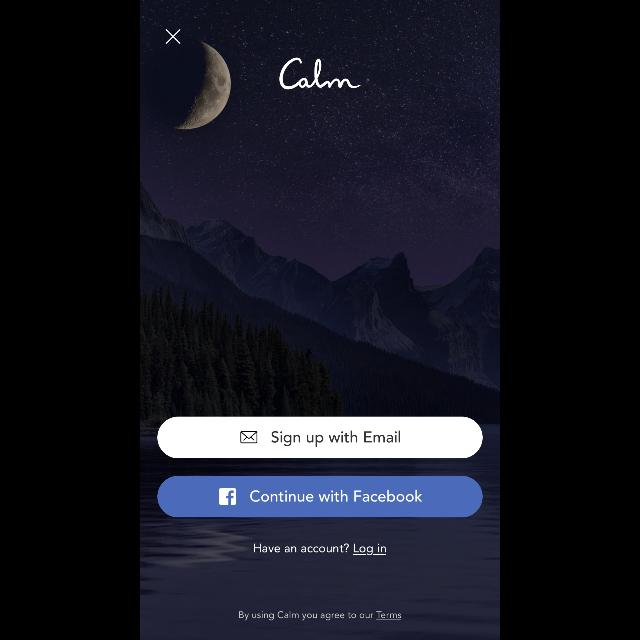backgroundimage: (140, 1, 500, 640)
icon: (166, 30, 180, 44)
image: (279, 58, 361, 90)
text: (239, 611, 401, 621), (254, 543, 386, 555)
textbutton: (158, 476, 482, 518), (158, 417, 482, 459)
